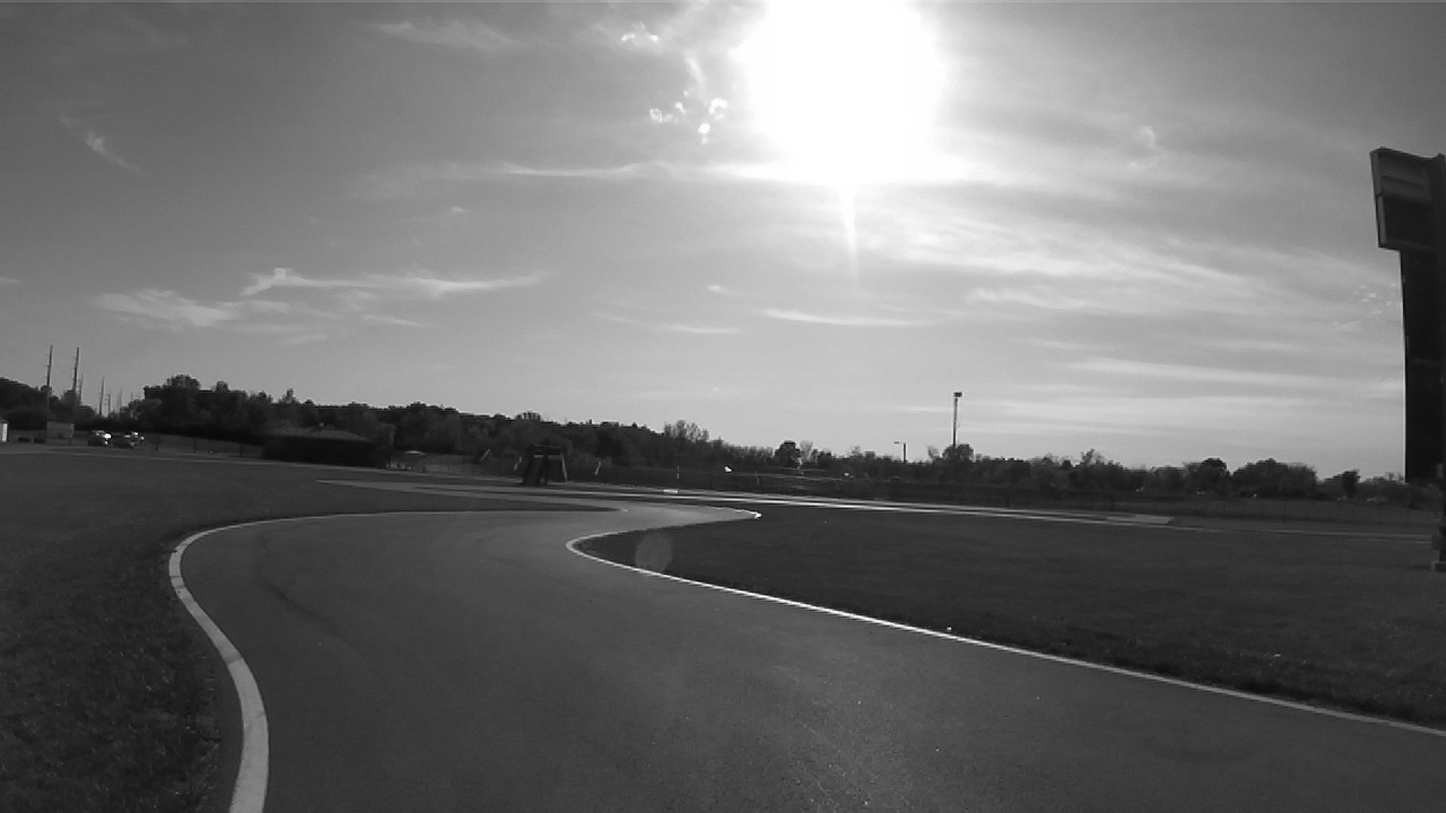white-line: (565, 527, 1445, 736), (164, 512, 462, 812), (744, 509, 761, 517)
